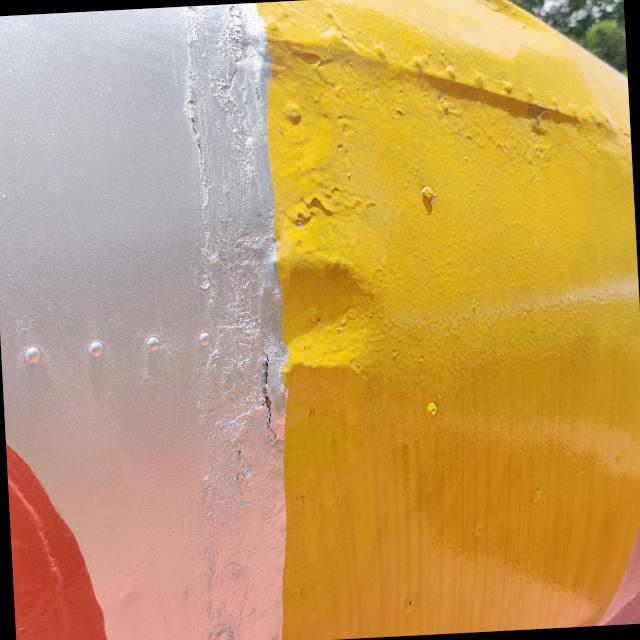dent: (220, 211, 422, 419)
